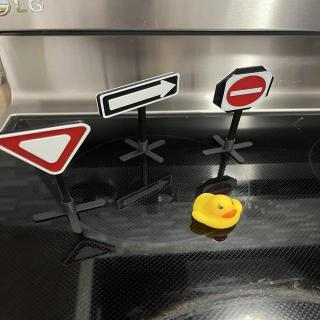duck_regular: (193, 194, 244, 230)
sign_noentry: (220, 70, 275, 115)
sign_oneway_right: (98, 74, 182, 120)
sign_yield: (1, 123, 92, 177)
